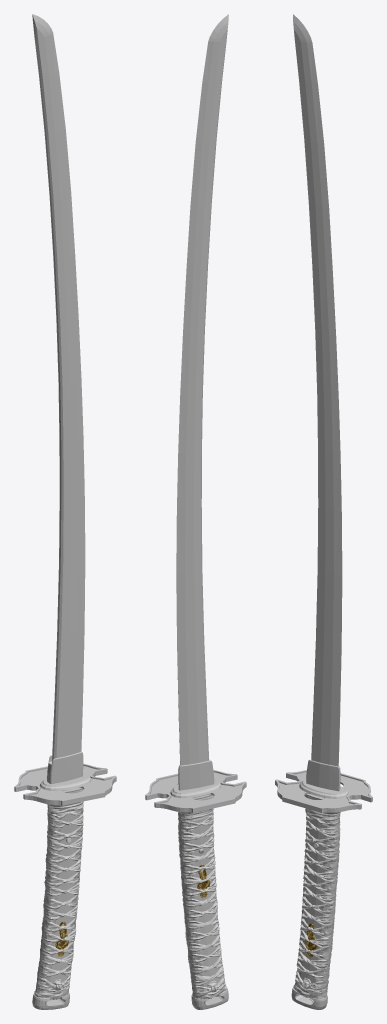
The model's file is yamato.obj.
3 renders of one model, left to right at view 1: azimuth 30°, elevation 25°; view 2: azimuth 210°, elevation 25°; view 3: azimuth 330°, elevation 25°, orthographic.
Parts seen in each view (by area): view 1: _mesh.001_Untitled.001; view 2: _mesh.001_Untitled.001; view 3: _mesh.001_Untitled.001.
Boxes of the visible parts, box(x1,y1,x2,y2) form: _mesh.001_Untitled.001: box(14, 14, 116, 1009); _mesh.001_Untitled.001: box(145, 14, 246, 1009); _mesh.001_Untitled.001: box(275, 14, 372, 1009).
Size of the model in its own units: 0.2866 by 3.02 by 0.2292.
